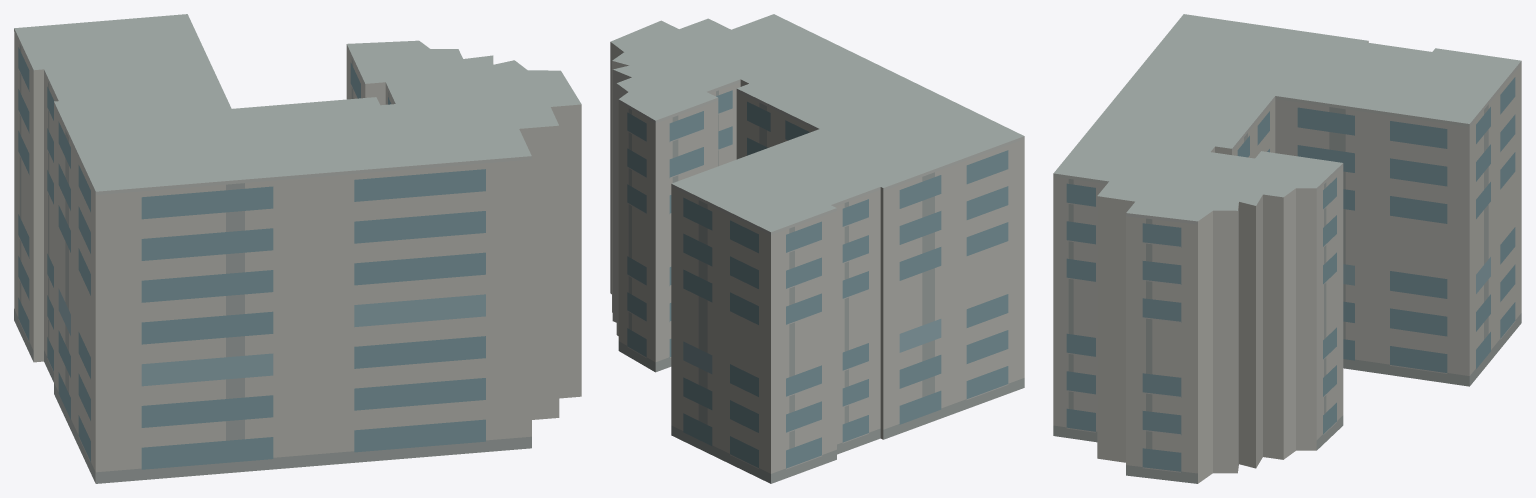
The model's file is survey-upis-32954220.glb.
3 views of the same model, side by side, from view 1: azimuth 30°, elevation 25°; view 2: azimuth 150°, elevation 25°; view 3: azimuth 270°, elevation 25° (orthographic). The views are drawn at different scales.
Visible parts, largest first — view 1: survey-upis-32954220.tmp; view 2: survey-upis-32954220.tmp; view 3: survey-upis-32954220.tmp.
Part boxes in pixels (<box>): survey-upis-32954220.tmp: <box>14,14,581,483</box>; survey-upis-32954220.tmp: <box>610,14,1024,483</box>; survey-upis-32954220.tmp: <box>1053,14,1521,483</box>.
Bounding box in the file's own units: 33.89 × 20 × 32.33.
